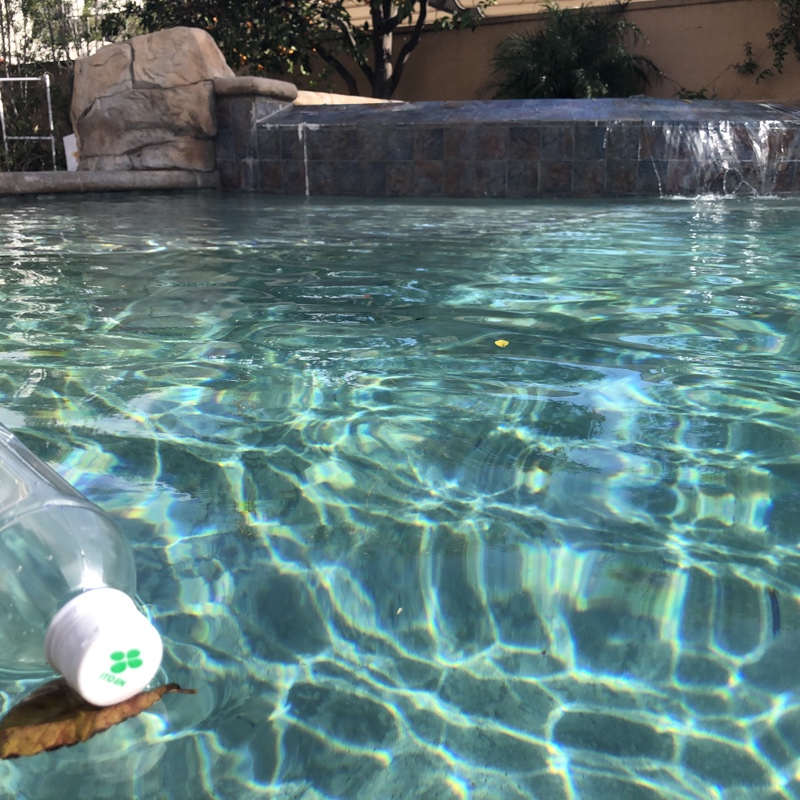Plastic Bottle: (1, 415, 180, 718)
